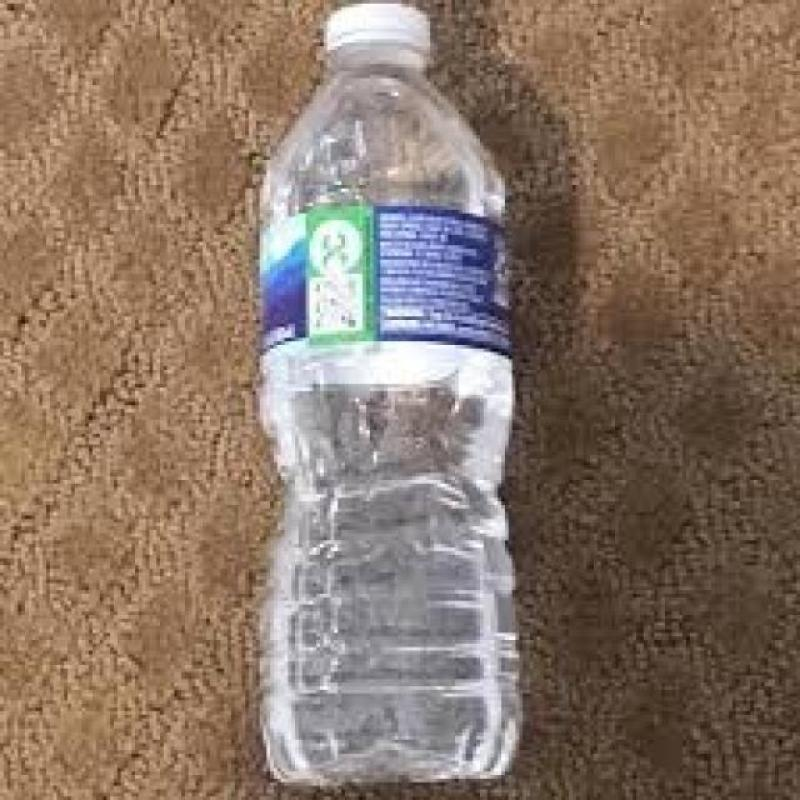botella: (259, 3, 533, 786)
